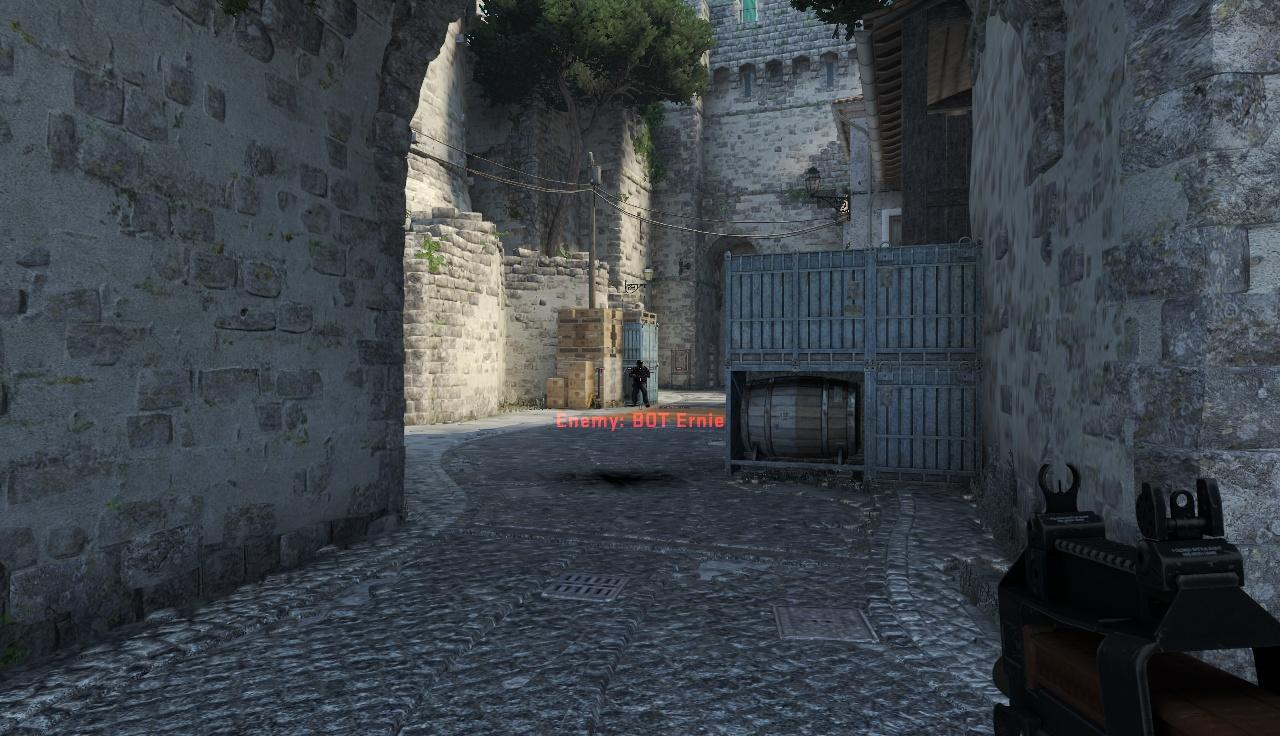ct: (633, 360, 650, 404)
cthead: (638, 361, 646, 370), (638, 362, 645, 370)
rifle: (995, 466, 1280, 736)
